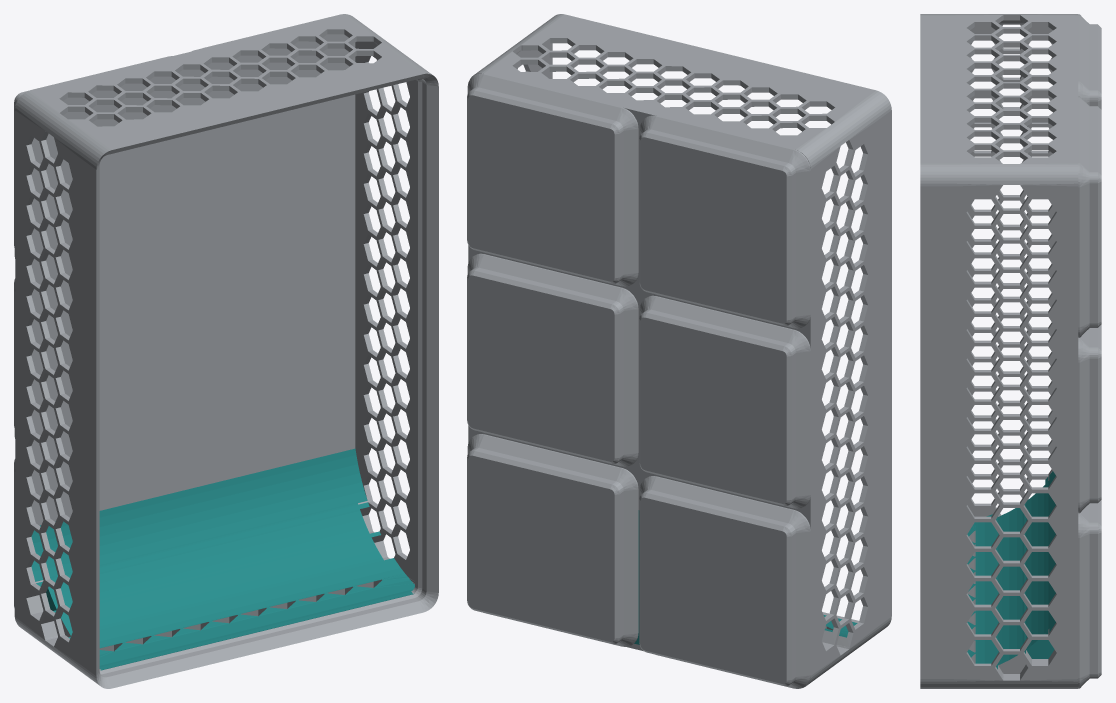
Rendered from hero-honeycomb-caddy.glb.
3 renders of one model, left to right at view 1: azimuth 30°, elevation 25°; view 2: azimuth 150°, elevation 25°; view 3: azimuth 270°, elevation 25°, orthographic. The views are drawn at different scales.
Bounding box in the file's own units: 83.5 × 126 × 39.3.
